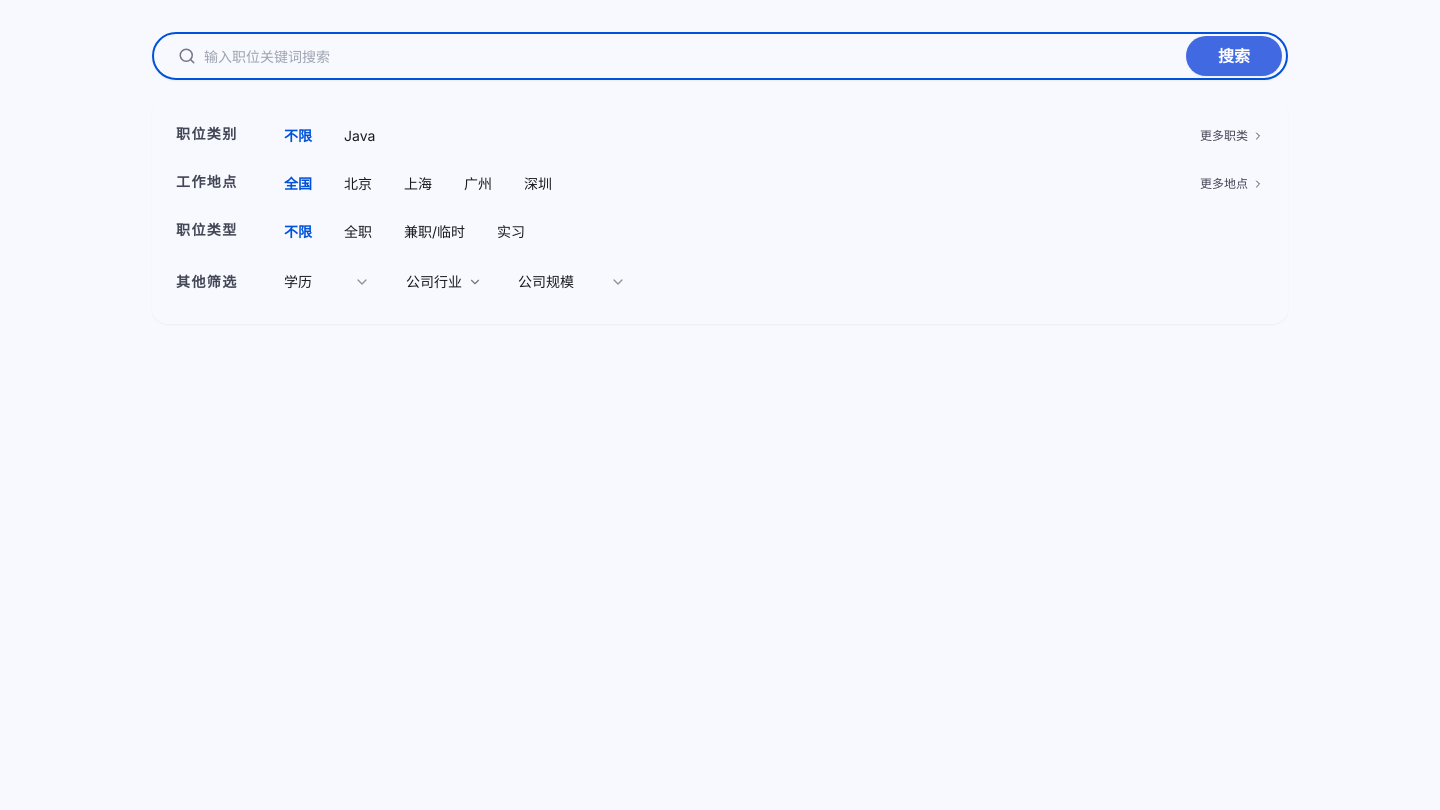
user jobs page filters › loads jobs from public api and opens category modal
The image size is (1440, 810).
expect the button "Java" is shown: met, box top-left (332, 120), bottom-right (387, 152)
Step 1. Click the button "更多职类" → click(1232, 136), box top-left (1200, 128), bottom-right (1264, 144)
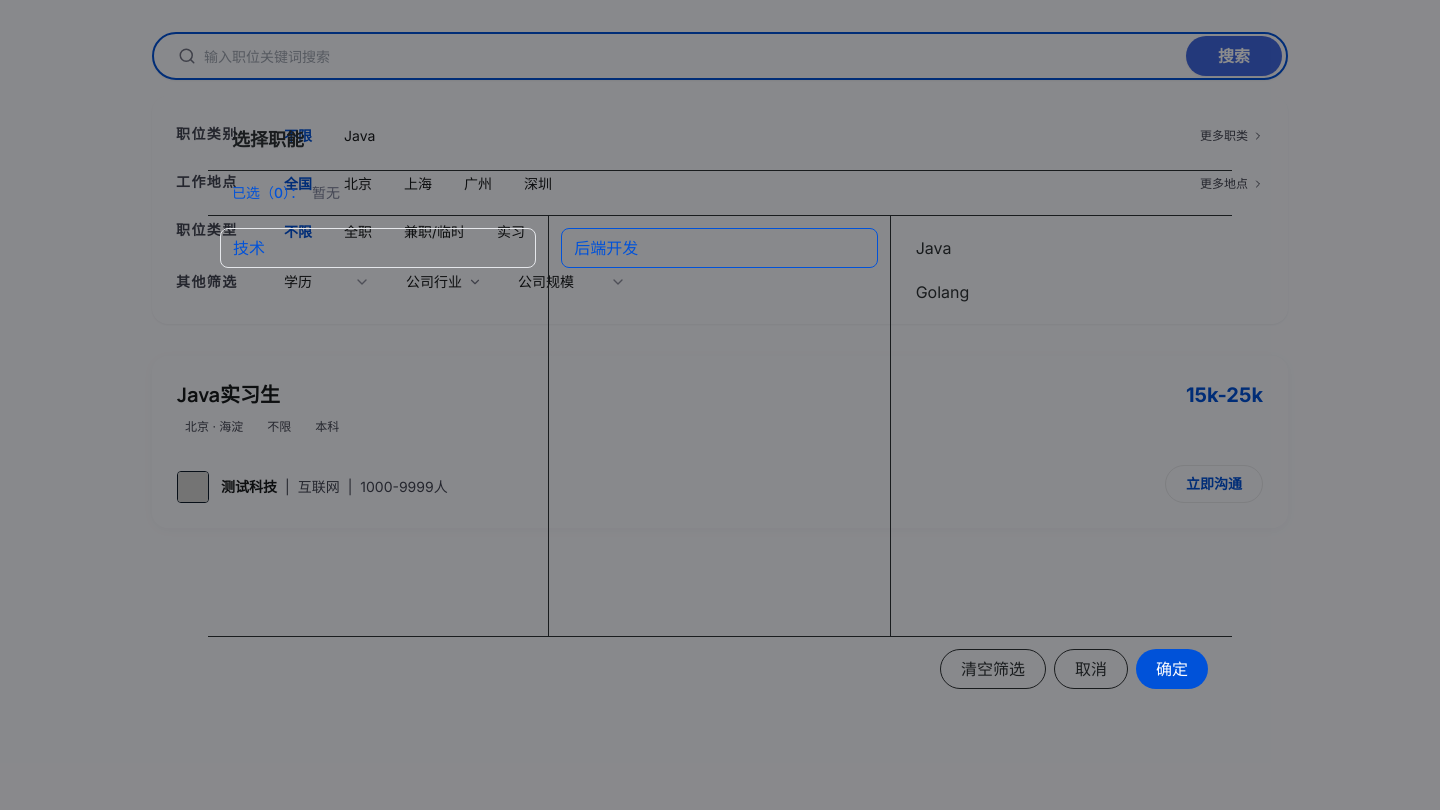
expect the text "选择职能" is shown: met, box top-left (208, 110), bottom-right (1232, 170)
expect the button "技术" is shown: met, box top-left (220, 228), bottom-right (536, 268)
